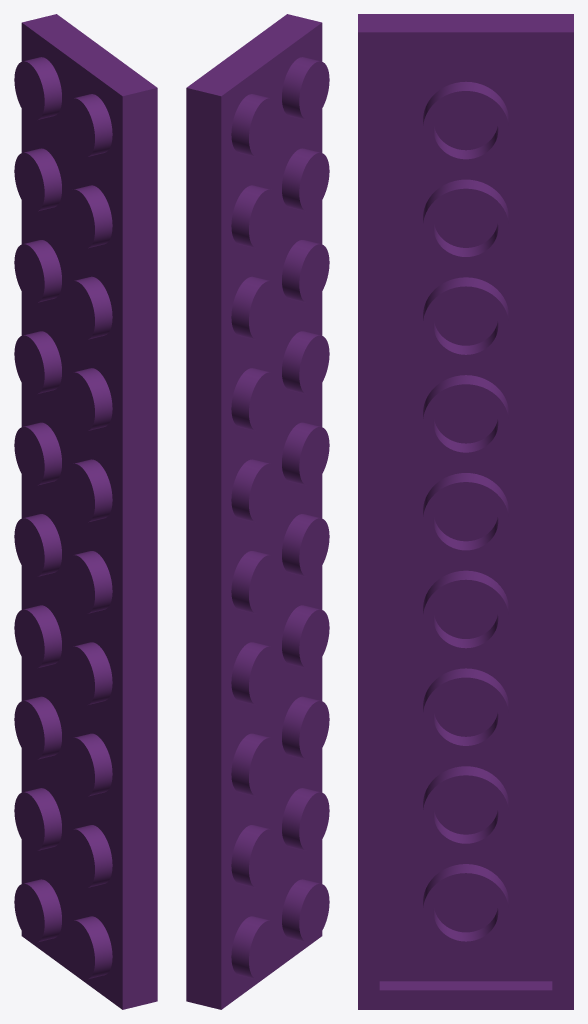
Rendered from plate2*10_medium_lavender.obj.
The picture shows the model from 3 angles, left to right: view 1: azimuth 30°, elevation 25°; view 2: azimuth 150°, elevation 25°; view 3: azimuth 270°, elevation 25°; orthographic projection. The views are drawn at different scales.
Bounding box in the file's own units: 12 × 200 × 40.
